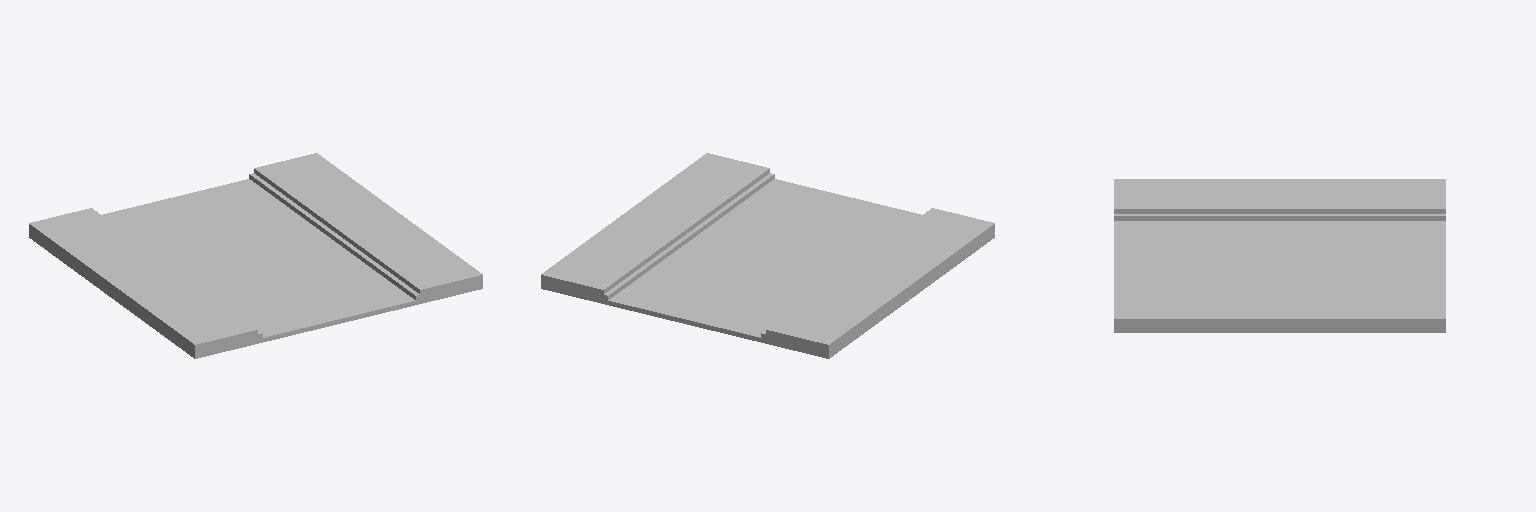
Rendered from road_straight.obj.
3 views of the same model, side by side, from view 1: azimuth 30°, elevation 25°; view 2: azimuth 150°, elevation 25°; view 3: azimuth 270°, elevation 25° (orthographic).
Visible parts, largest first — view 1: object 1; view 2: object 1; view 3: object 1.
Boxes of the visible parts, box(x1,y1,x2,y2) form: object 1: box(29, 153, 482, 358); object 1: box(541, 153, 994, 358); object 1: box(1114, 179, 1445, 332).
Bounding box in the file's own units: 6.4 × 0.3 × 6.4.